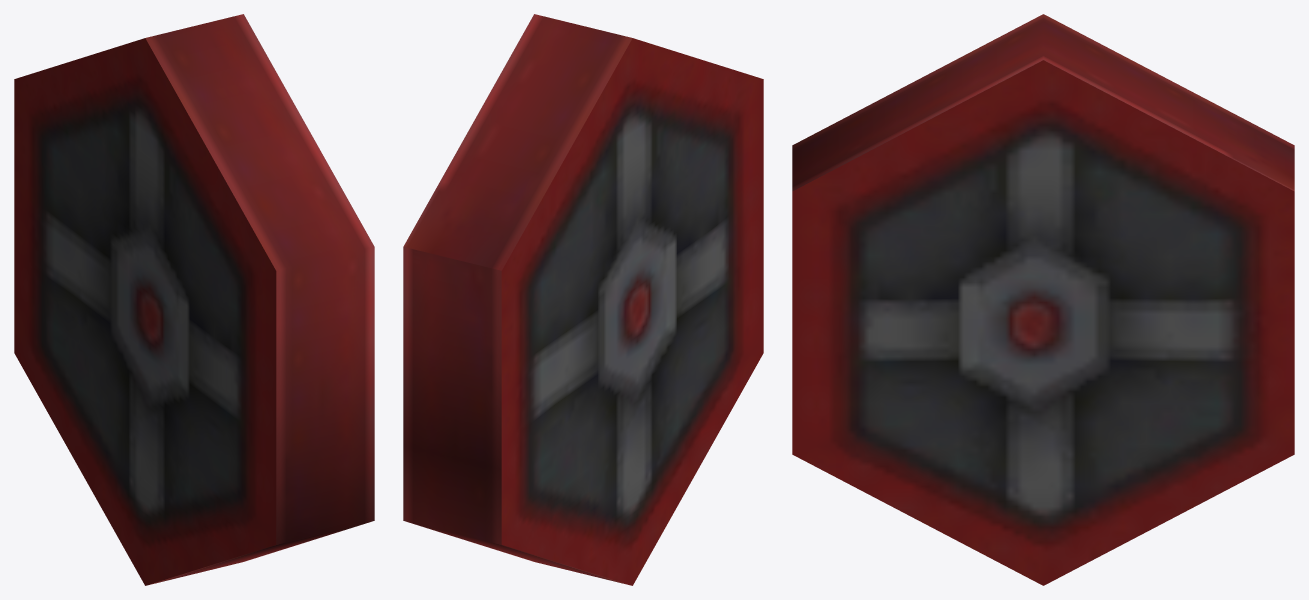
The model's file is action_01_dcdd553e__zombies2_diffuse_07_65562b6b_c1f257.obj.
3 views of the same model, side by side, from view 1: azimuth 30°, elevation 25°; view 2: azimuth 150°, elevation 25°; view 3: azimuth 270°, elevation 25° (orthographic). The views are drawn at different scales.
Bounding box in the file's own units: 0.1549 × 0.824 × 0.7136.
1 material, 1 textured.
